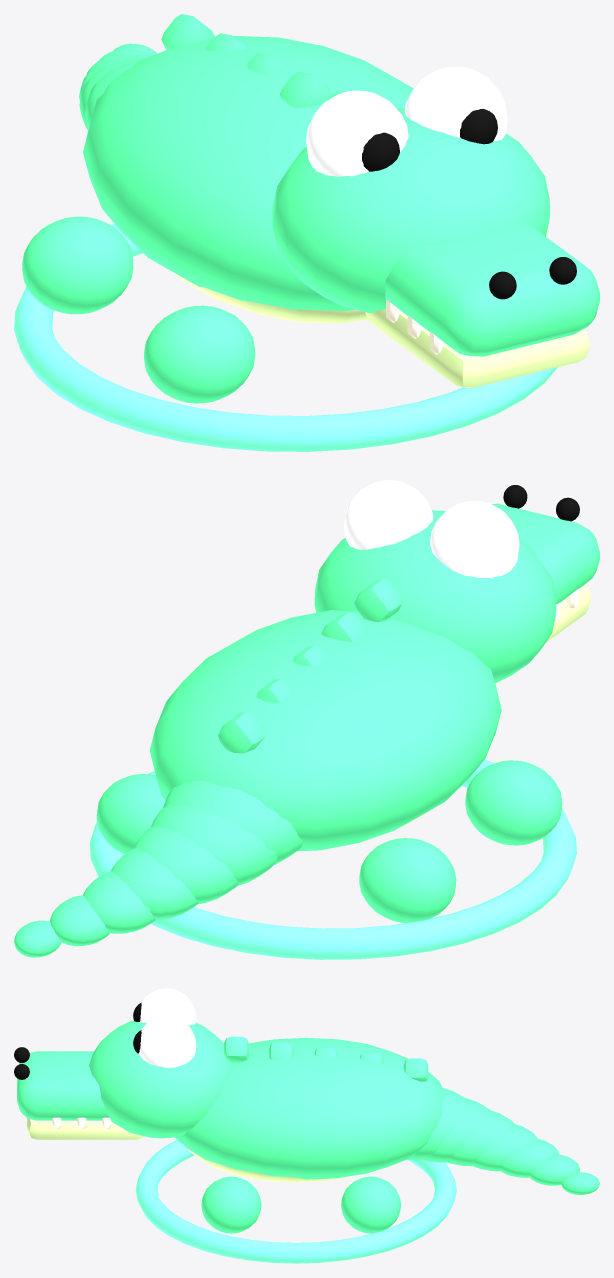
Rendered from team-gator.glb.
3 renders of one model, top to bottom at view 1: azimuth 30°, elevation 25°; view 2: azimuth 150°, elevation 25°; view 3: azimuth 270°, elevation 25°, orthographic. The views are drawn at different scales.
Visible parts, largest first — view 1: team-gator; view 2: team-gator; view 3: team-gator.
Boxes of the visible parts, x1,y1,x2,y2 form: team-gator: (14, 14, 599, 451); team-gator: (14, 480, 599, 959); team-gator: (14, 988, 599, 1263).
Size of the model in its own units: 0.644 by 0.432 by 1.17.
